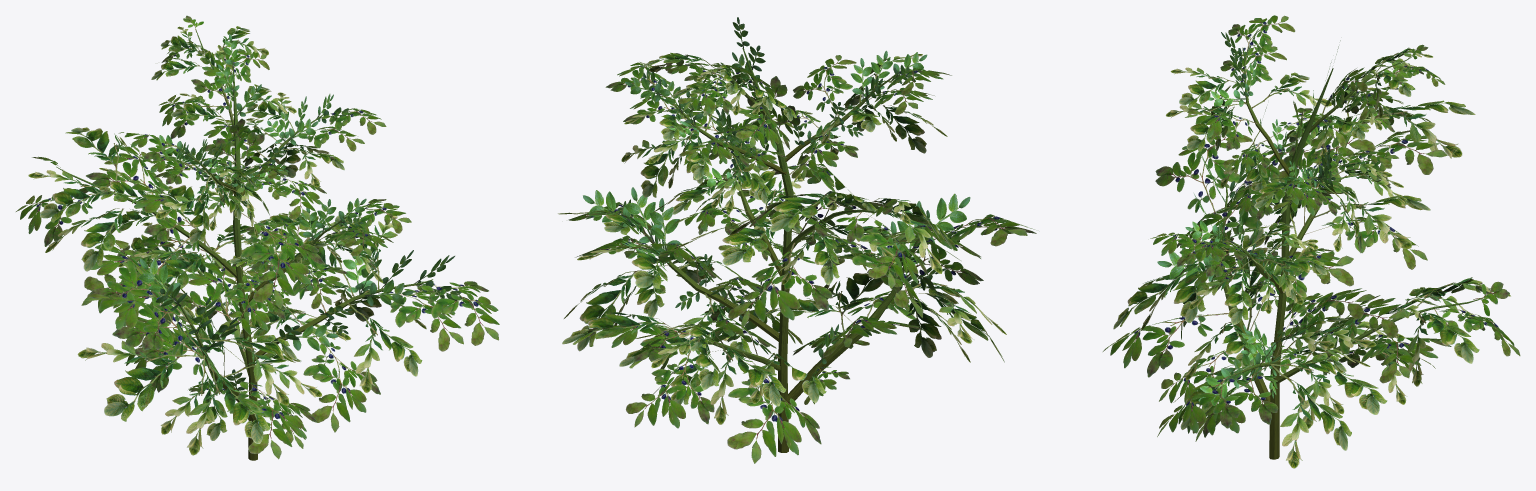
The picture shows the model from 3 angles, left to right: view 1: azimuth 30°, elevation 25°; view 2: azimuth 150°, elevation 25°; view 3: azimuth 270°, elevation 25°; orthographic projection. The views are drawn at different scales.
Parts seen in each view (by area): view 1: Object_3, Object_2; view 2: Object_3, Object_2; view 3: Object_3, Object_2.
Boxes of the visible parts, x1,y1,x2,y2 form: Object_3: (16, 15, 499, 460); Object_2: (28, 26, 426, 455); Object_3: (568, 17, 1036, 463); Object_2: (558, 52, 1006, 424); Object_3: (1103, 15, 1520, 459); Object_2: (1113, 47, 1510, 468).
Bounding box in the file's own units: 1 × 0.8788 × 0.7912.
1 material, 1 textured.
